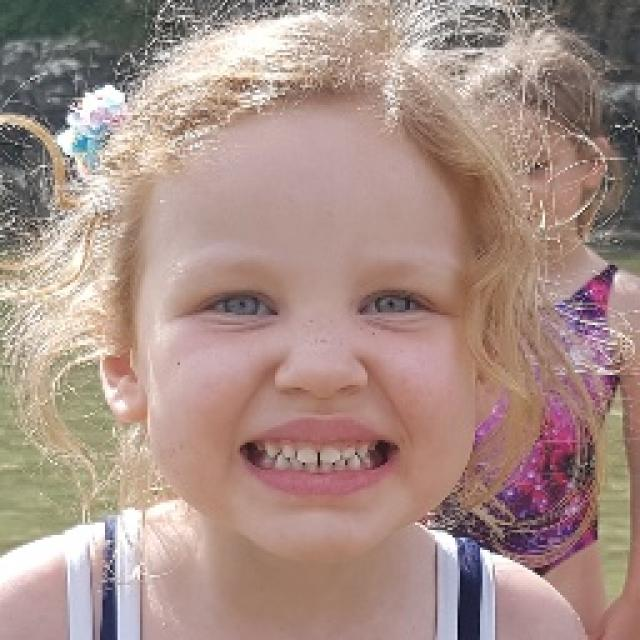earlobe: (109, 374, 151, 425), (469, 371, 504, 426)
eye: (196, 292, 278, 320), (360, 290, 431, 318)
nose: (271, 375, 377, 438)
